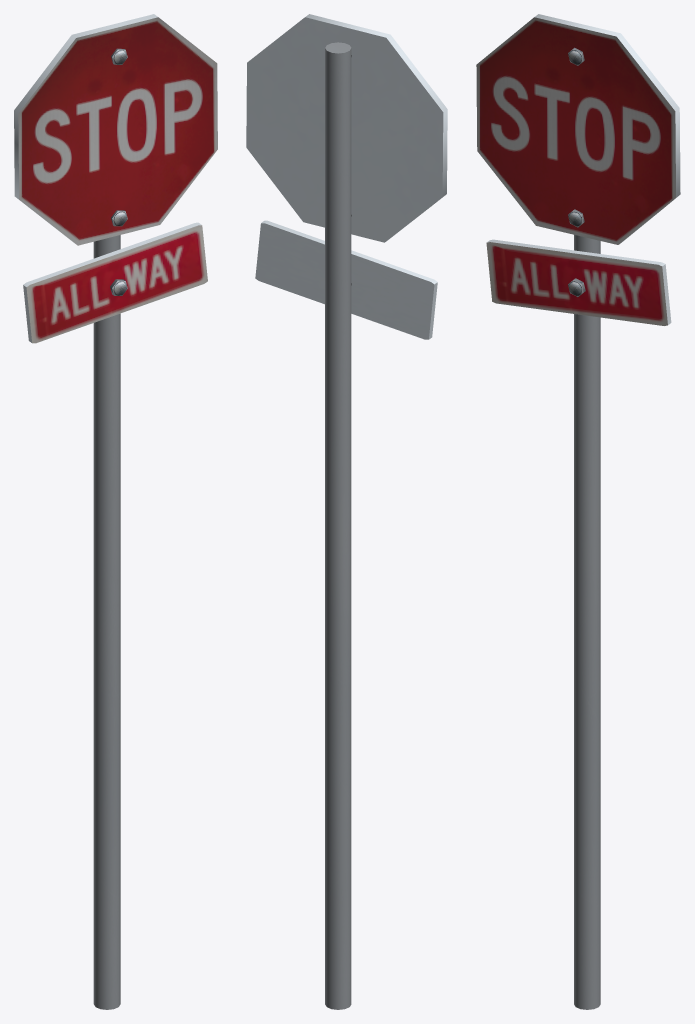
The model's file is StreetSigns_8.fbx.
The picture shows the model from 3 angles, left to right: view 1: azimuth 30°, elevation 25°; view 2: azimuth 150°, elevation 25°; view 3: azimuth 330°, elevation 25°; orthographic projection.
Visible parts, largest first — view 1: StreetSigns_8; view 2: StreetSigns_8; view 3: StreetSigns_8.
Boxes of the visible parts, left/top/right/bottom form: StreetSigns_8: left=14, top=14, right=217, bottom=1009; StreetSigns_8: left=246, top=14, right=447, bottom=1009; StreetSigns_8: left=476, top=14, right=680, bottom=1009.
Size of the model in its own units: 0.8623 by 4.07 by 0.1481.
